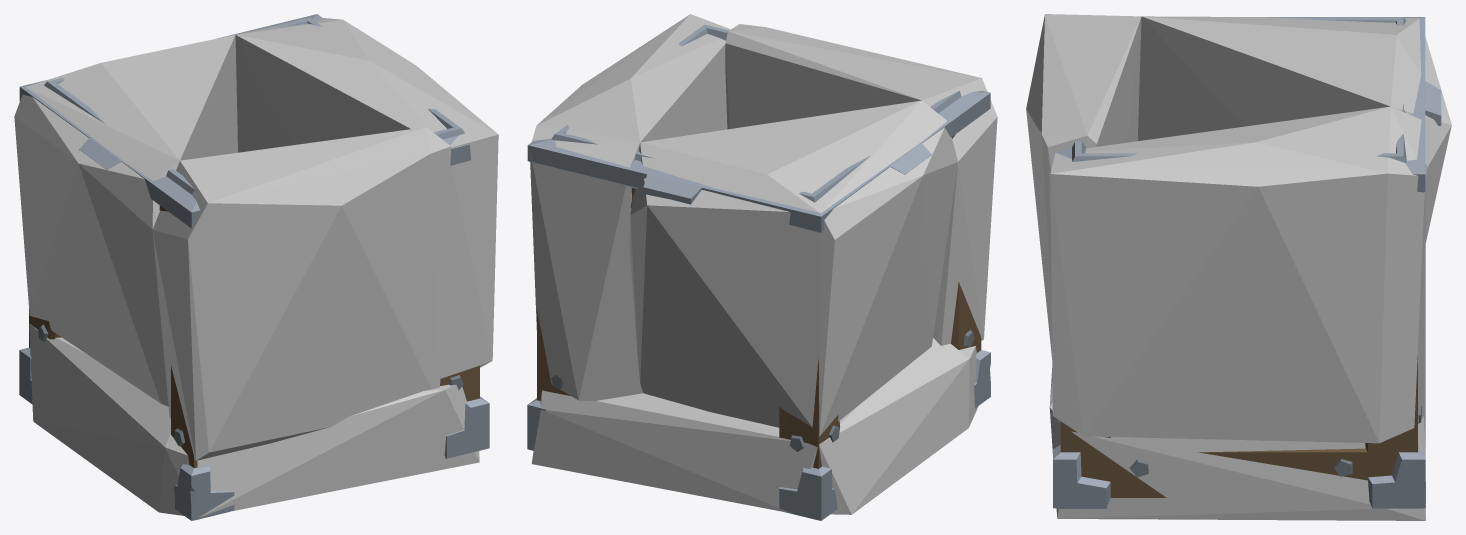
Rendered from SM_Prop_Crate_05.fbx.
The picture shows the model from 3 angles, left to right: view 1: azimuth 30°, elevation 25°; view 2: azimuth 150°, elevation 25°; view 3: azimuth 270°, elevation 25°; orthographic projection. The views are drawn at different scales.
Visible parts, largest first — view 1: SM_Prop_Crate_05_ConvexHulls, SM_Prop_Crate_05; view 2: SM_Prop_Crate_05_ConvexHulls, SM_Prop_Crate_05; view 3: SM_Prop_Crate_05_ConvexHulls, SM_Prop_Crate_05.
Boxes of the visible parts, x1,y1,x2,y2 form: SM_Prop_Crate_05_ConvexHulls: (14, 18, 498, 517); SM_Prop_Crate_05: (19, 14, 489, 520); SM_Prop_Crate_05_ConvexHulls: (530, 14, 997, 514); SM_Prop_Crate_05: (527, 24, 990, 520); SM_Prop_Crate_05_ConvexHulls: (1026, 14, 1451, 520); SM_Prop_Crate_05: (1053, 17, 1441, 508).
Size of the model in its own units: 99.67 by 99.26 by 94.43.
Materials: 2 (1 with a texture image).
